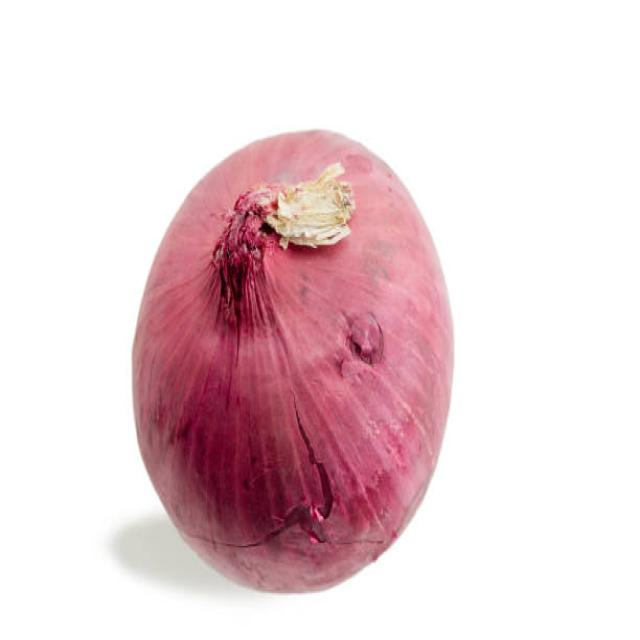onion: (102, 66, 460, 606)
